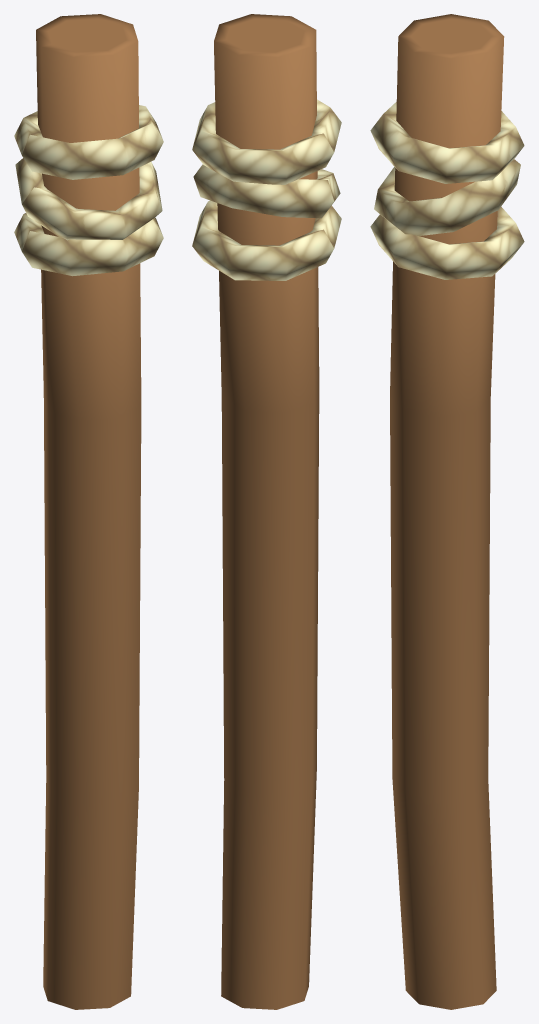
The model's file is H_Pilar_01.fbx.
The picture shows the model from 3 angles, left to right: view 1: azimuth 30°, elevation 25°; view 2: azimuth 150°, elevation 25°; view 3: azimuth 270°, elevation 25°; orthographic projection.
Parts seen in each view (by area): view 1: H_Pilar_01; view 2: H_Pilar_01; view 3: H_Pilar_01.
Part boxes in pixels (x1=…): H_Pilar_01: x1=14, y1=14, x2=163, y2=1009; H_Pilar_01: x1=192, y1=14, x2=341, y2=1009; H_Pilar_01: x1=370, y1=14, x2=524, y2=1009.
Bounding box in the file's own units: 44.12 × 300 × 43.86.
